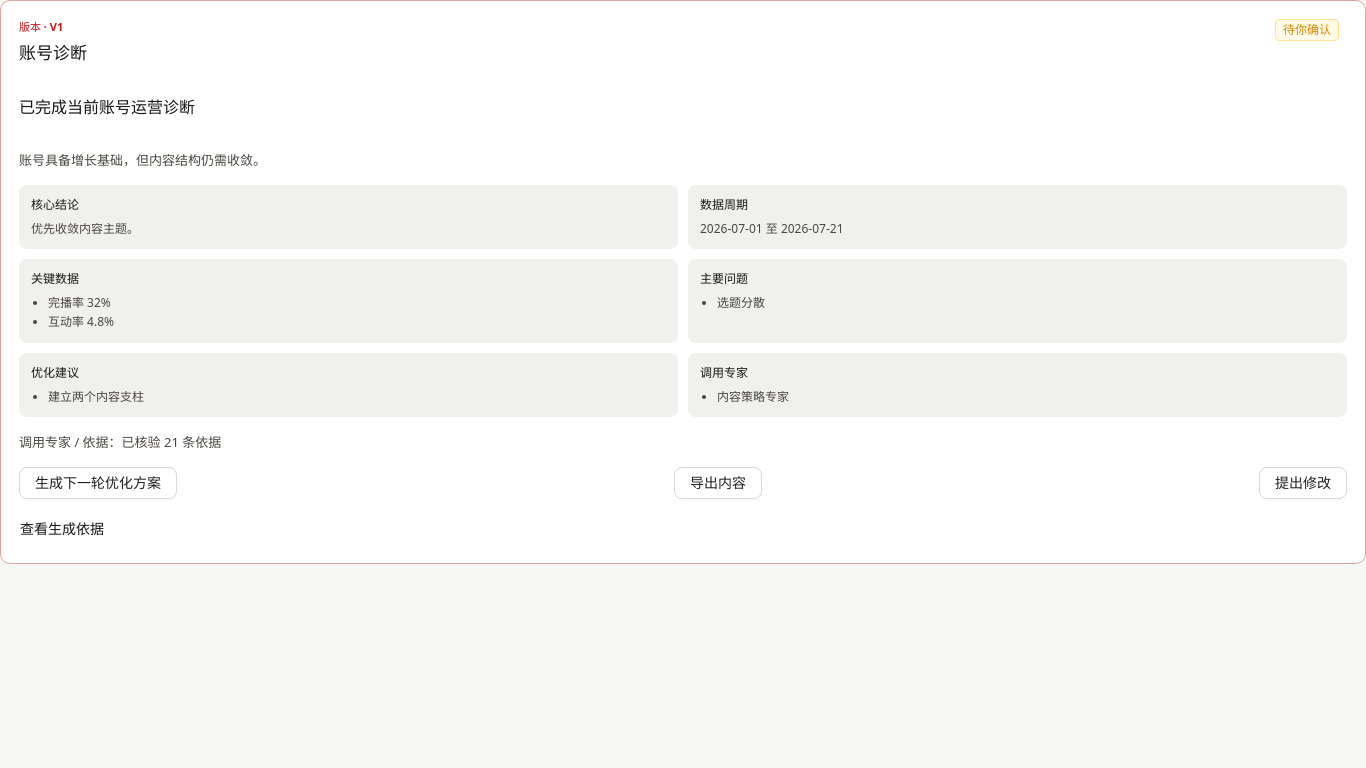
Test case: ArtifactCard › paginates raw evidence inside technical details
The width and height of the screenshot is (1366, 768).
Click the button "查看生成依据": point(70, 529) [19,513,120,545]
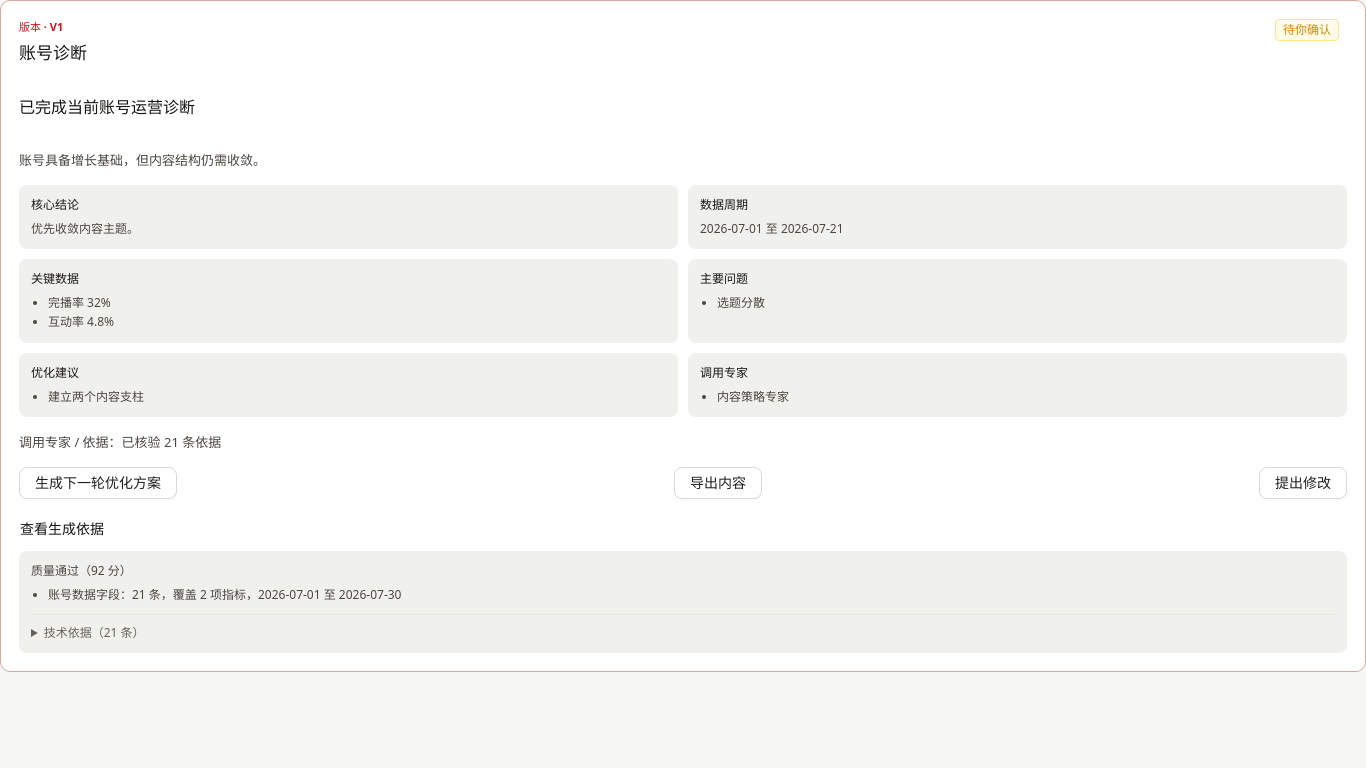
Check: the text "field_observation #1" is not shown
Check: the list item "账号数据字段：21 条，覆盖 2 项指标，2026-07-01 至 2026-07-30" is shown, box [48,586,402,603]
Click the heading "技术依据（21 条）": point(94, 633) [44,624,145,641]
(page scrolled)
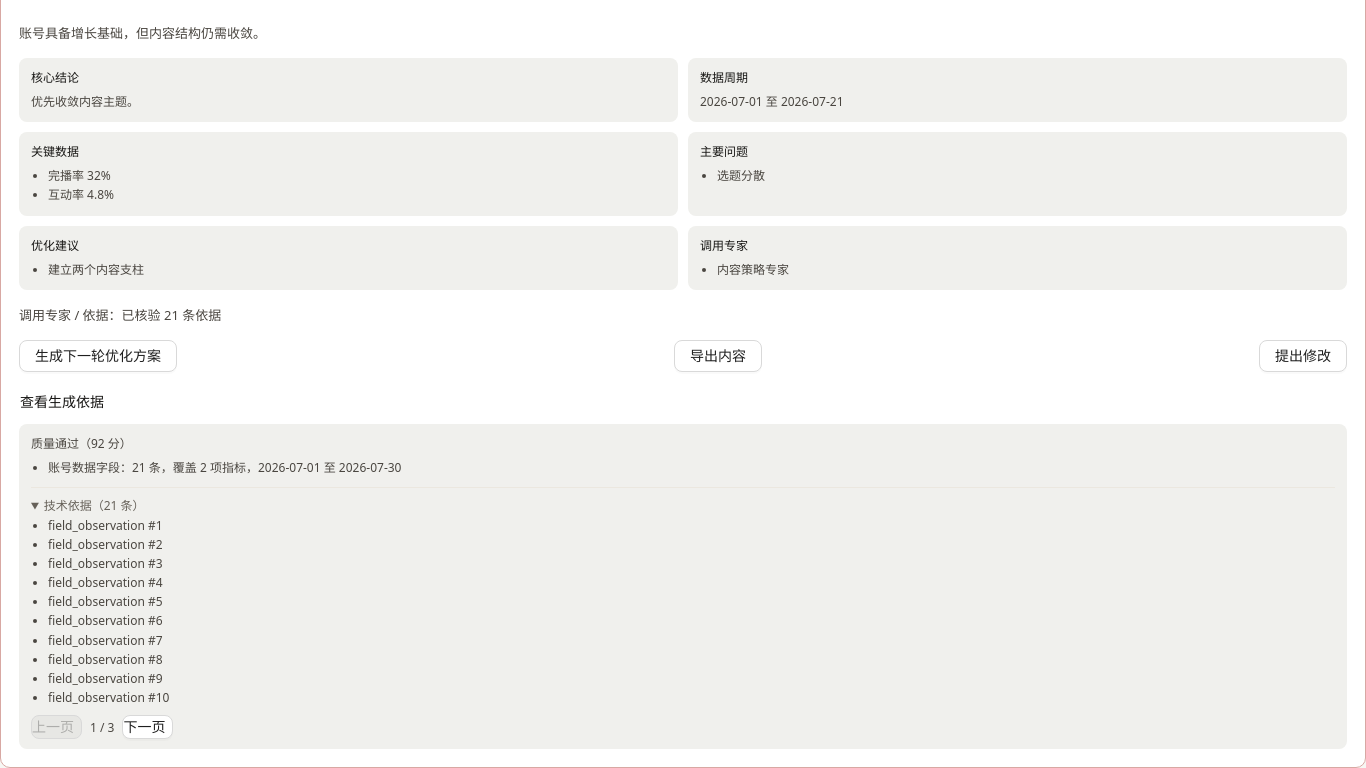
Check: the text "field_observation #11" is not shown
Check: the list item "field_observation #1" is shown, box [48,516,163,534]
Click the button "下一页": point(148, 727) [122,715,174,739]
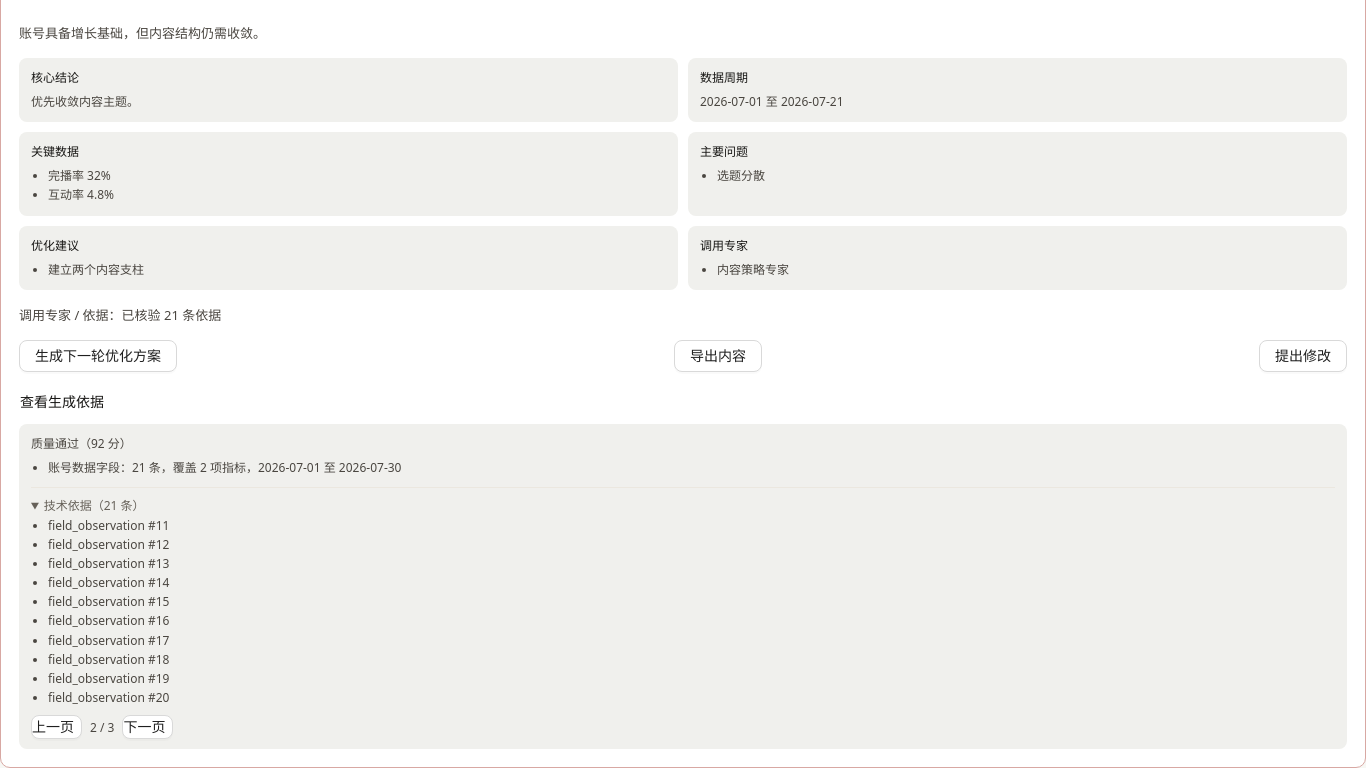
Check: the list item "field_observation #11" is shown, box [48,516,170,534]
